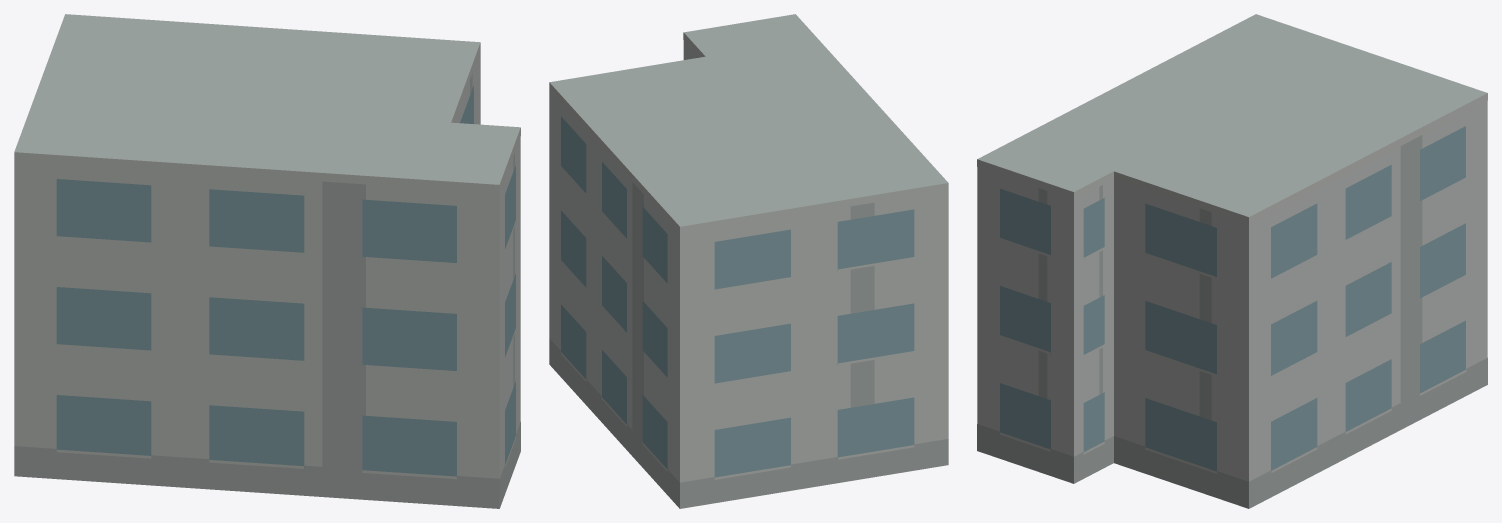
File: residential-2f2eff96-0bd2-45e4-946b-f0340911d855.glb
3 views of the same model, side by side, from view 1: azimuth 30°, elevation 25°; view 2: azimuth 150°, elevation 25°; view 3: azimuth 270°, elevation 25° (orthographic). The views are drawn at different scales.
Parts seen in each view (by area): view 1: residential-2f2eff96-0bd2-45e4-946b-f0340911d855.tmp; view 2: residential-2f2eff96-0bd2-45e4-946b-f0340911d855.tmp; view 3: residential-2f2eff96-0bd2-45e4-946b-f0340911d855.tmp.
Part boxes in pixels (<box>): residential-2f2eff96-0bd2-45e4-946b-f0340911d855.tmp: <box>14,14,520,508</box>; residential-2f2eff96-0bd2-45e4-946b-f0340911d855.tmp: <box>549,14,948,508</box>; residential-2f2eff96-0bd2-45e4-946b-f0340911d855.tmp: <box>977,14,1487,508</box>.
Size of the model in its own units: 13.68 by 9.15 by 14.53.
